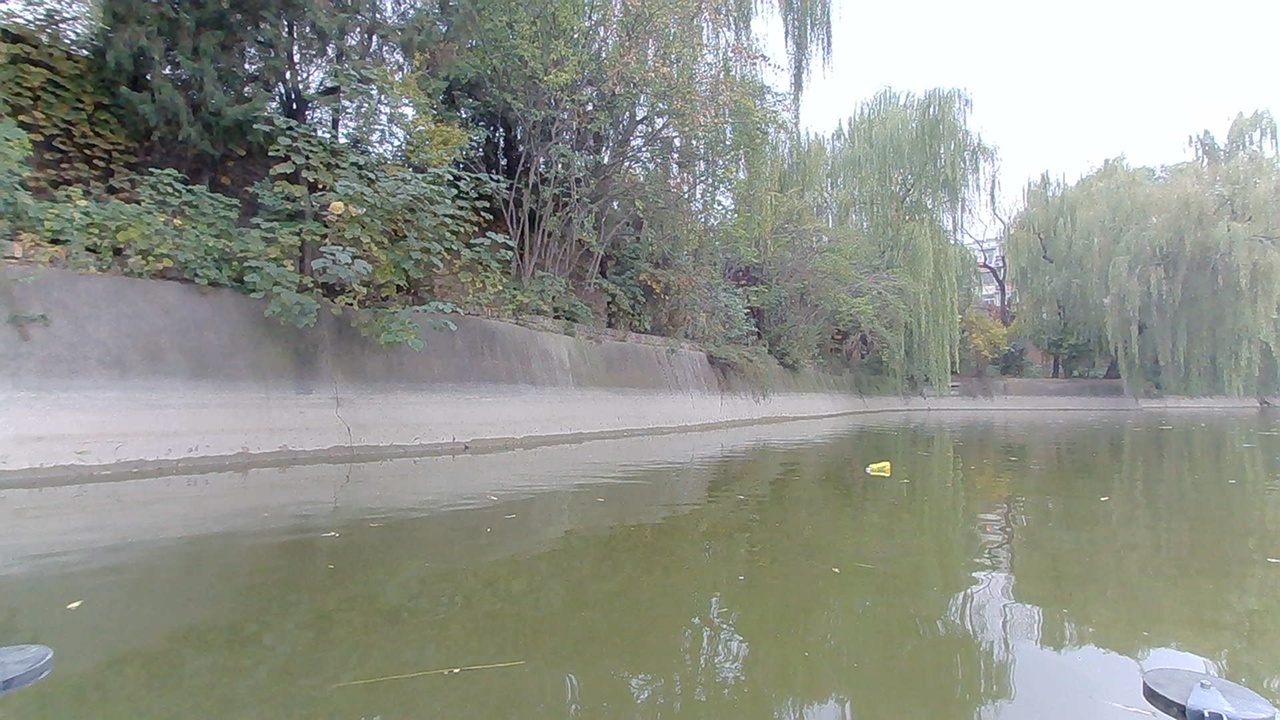bottle: (864, 458, 898, 481)
